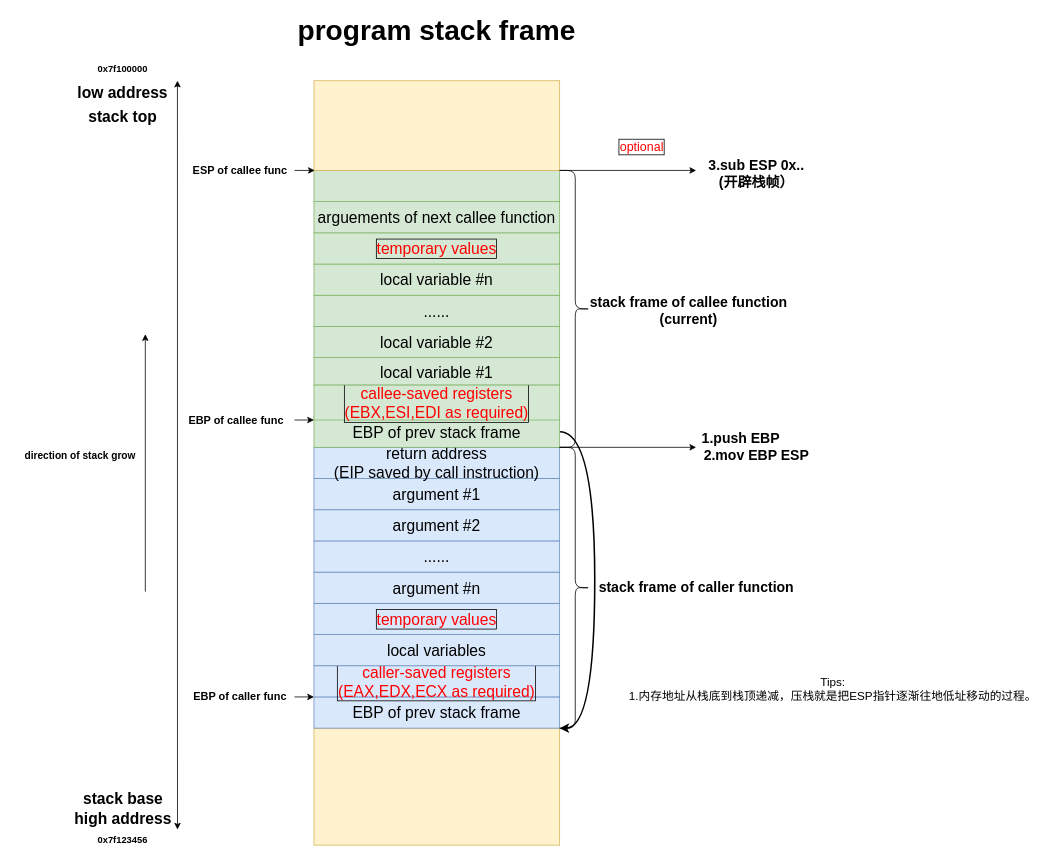
Image size: 1060x866. Some labels were removed from this diagram. The shapes that lost their labels are listed below. From the top down, each one's box as (x1, y1, x2, y2) in pixels, then its label:
(313, 80, 560, 170): next stack frame
(313, 170, 560, 202): return address
(313, 727, 560, 845): previous stack frame
